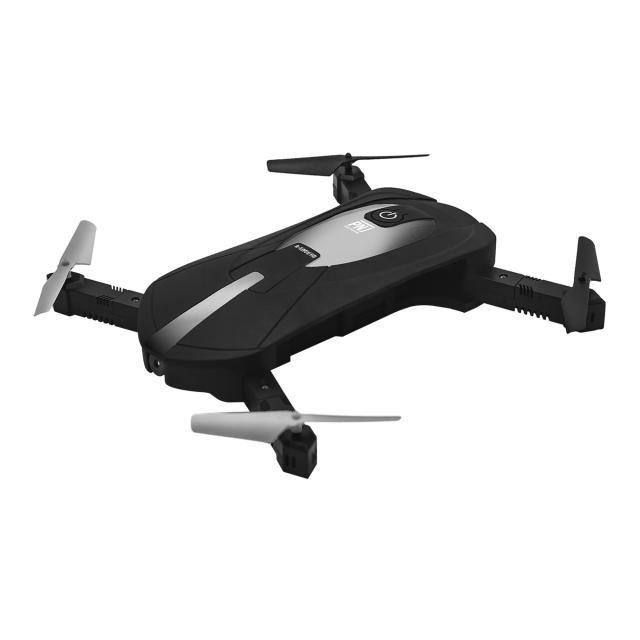drone: (37, 131, 607, 478)
